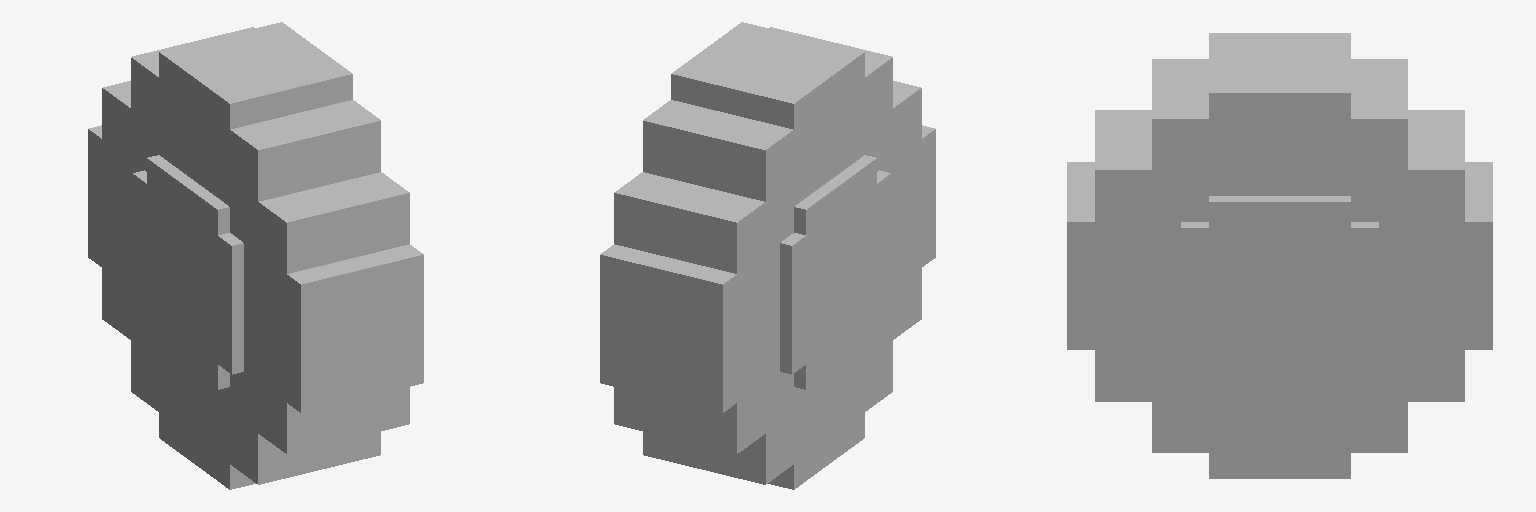
File: wheellarge.obj
The picture shows the model from 3 angles: view 1: azimuth 30°, elevation 25°; view 2: azimuth 150°, elevation 25°; view 3: azimuth 270°, elevation 25°; orthographic projection.
Parts seen in each view (by area): view 1: tire, rim; view 2: tire, rim; view 3: tire, rim.
Boxes of the visible parts, <box> form: tire: <box>88,22,423,489</box>; rim: <box>132,155,243,389</box>; tire: <box>600,22,935,489</box>; rim: <box>780,155,891,389</box>; tire: <box>1067,33,1492,478</box>; rim: <box>1181,196,1378,381</box>.
Bounding box in the file's own units: 0.375 × 0.9375 × 0.9375.